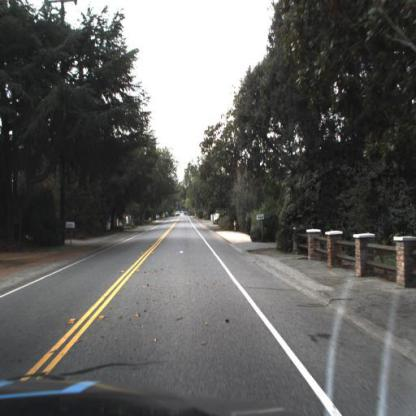car: (178, 212, 181, 218)
